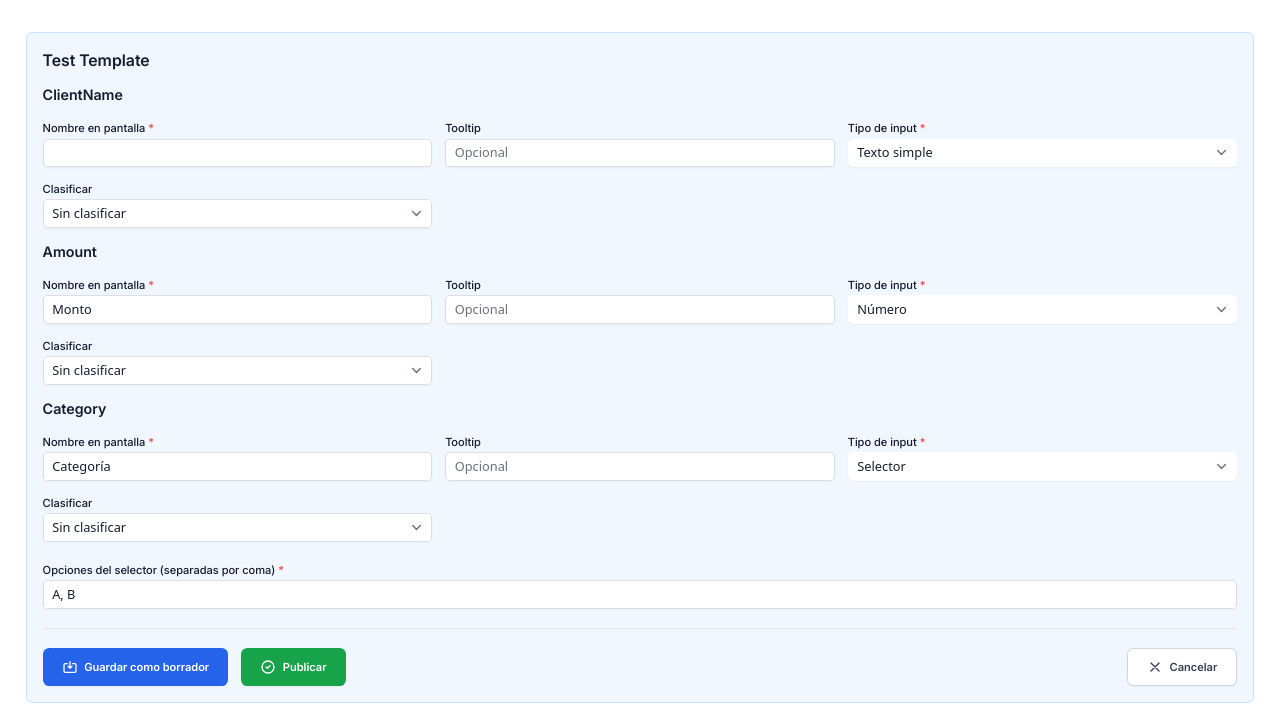
Test: DocumentVariablesConfig.vue › publish with empty name_es shows validation error and Swal
Click the button "Publicar" at [293, 667], box x1=241 y1=648 x2=346 y2=686
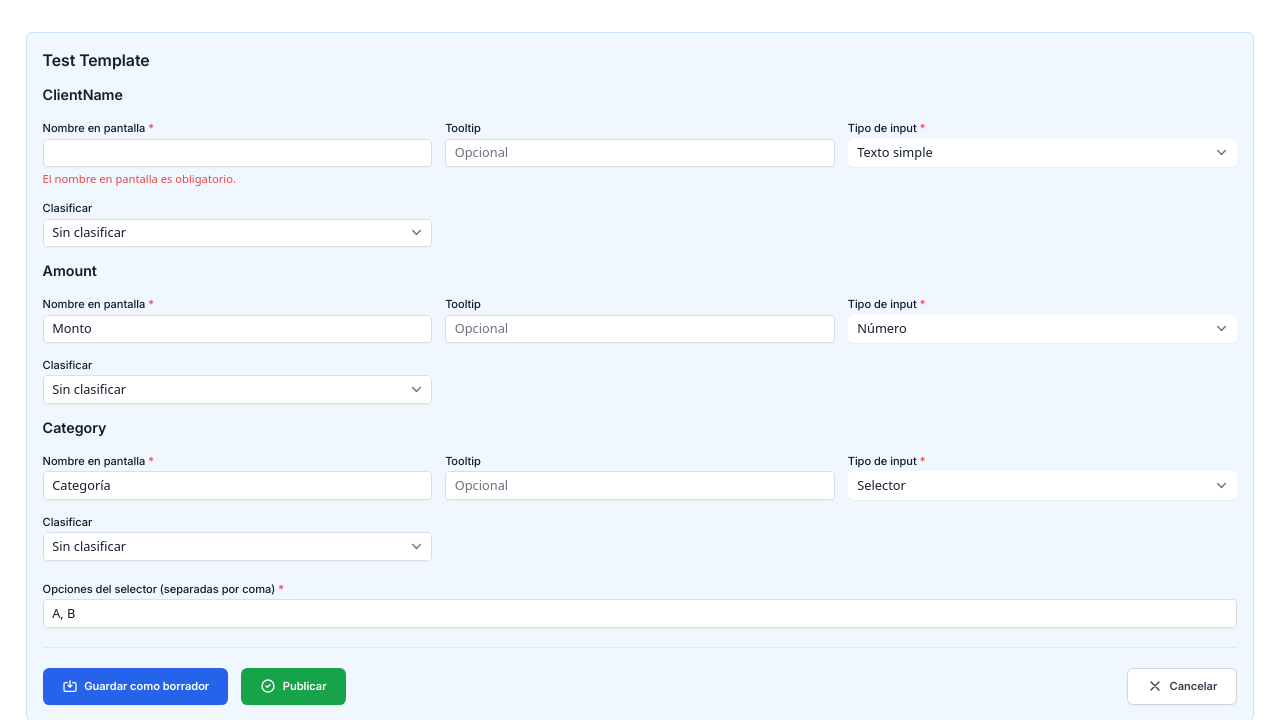
expect the text "nombre en pantalla es obligatorio" is shown: met, box x1=43 y1=171 x2=236 y2=186
